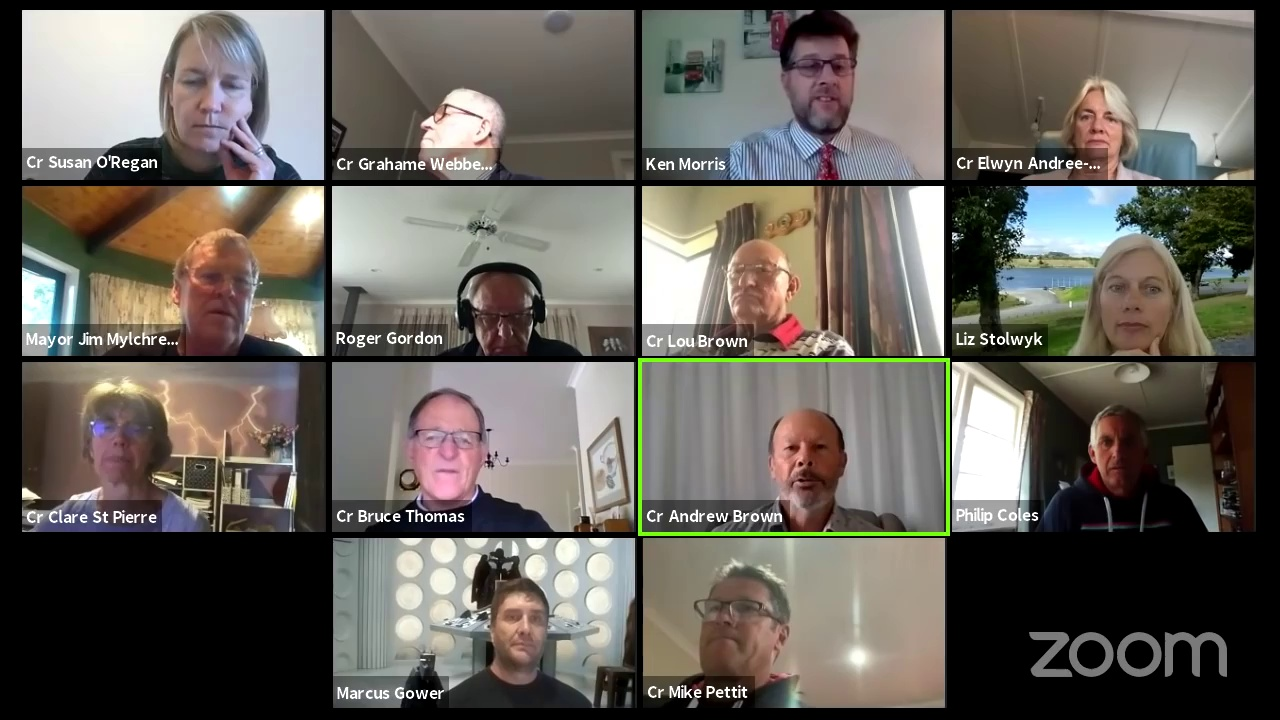Distracted: (172, 25, 263, 148), (462, 267, 538, 357), (424, 97, 497, 167)
Not Distracted: (693, 573, 792, 680), (170, 238, 272, 338), (776, 25, 869, 126), (1092, 261, 1185, 354), (407, 396, 485, 505), (770, 416, 849, 505), (717, 242, 804, 320), (88, 389, 157, 484), (1081, 411, 1161, 488), (1070, 87, 1134, 170), (493, 589, 547, 665)
